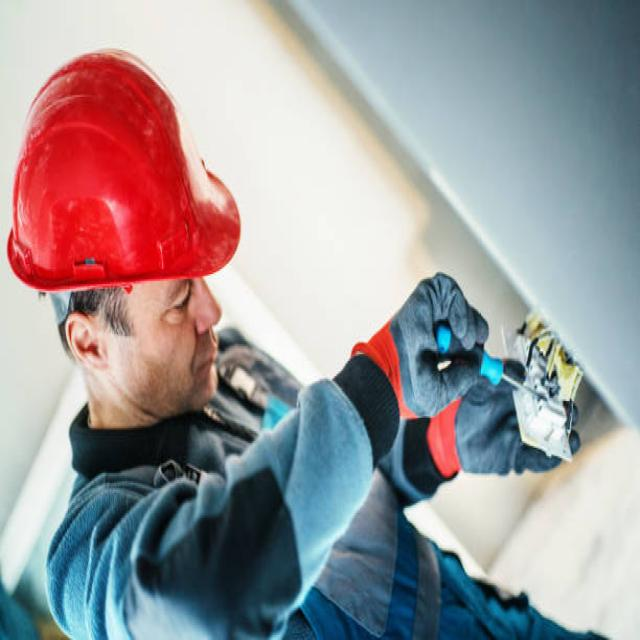gloves: (349, 269, 488, 419), (410, 359, 580, 480)
